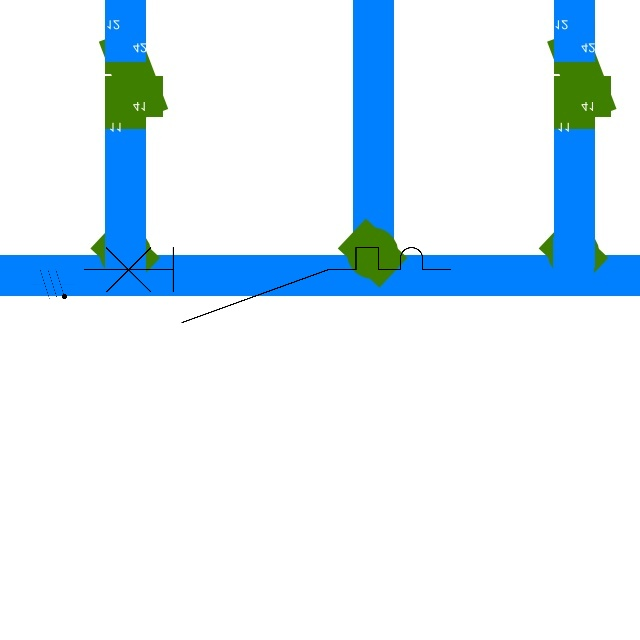interruptor_termomagnetico: (74, 238, 459, 332)
